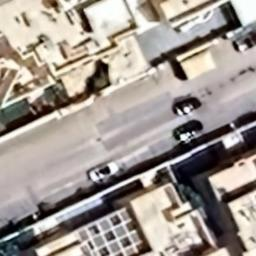sedan: (170, 120, 206, 143), (86, 160, 120, 184), (172, 93, 203, 118)
van: (231, 29, 256, 54)
